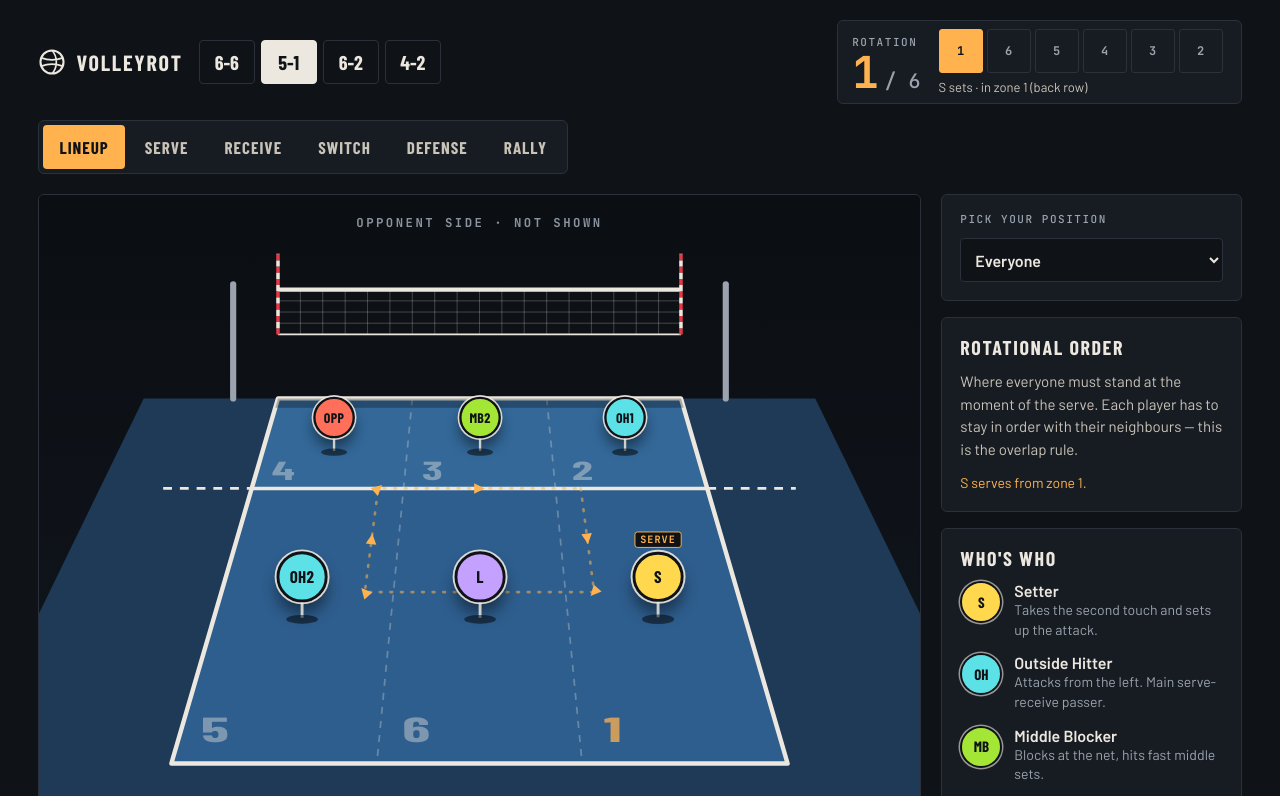
Scenario: rally playback › the Rally view shows step buttons, a caption and the ball
Click the button "Rally" at x=526, y=147, box [488, 125, 563, 169]
(page scrolled)
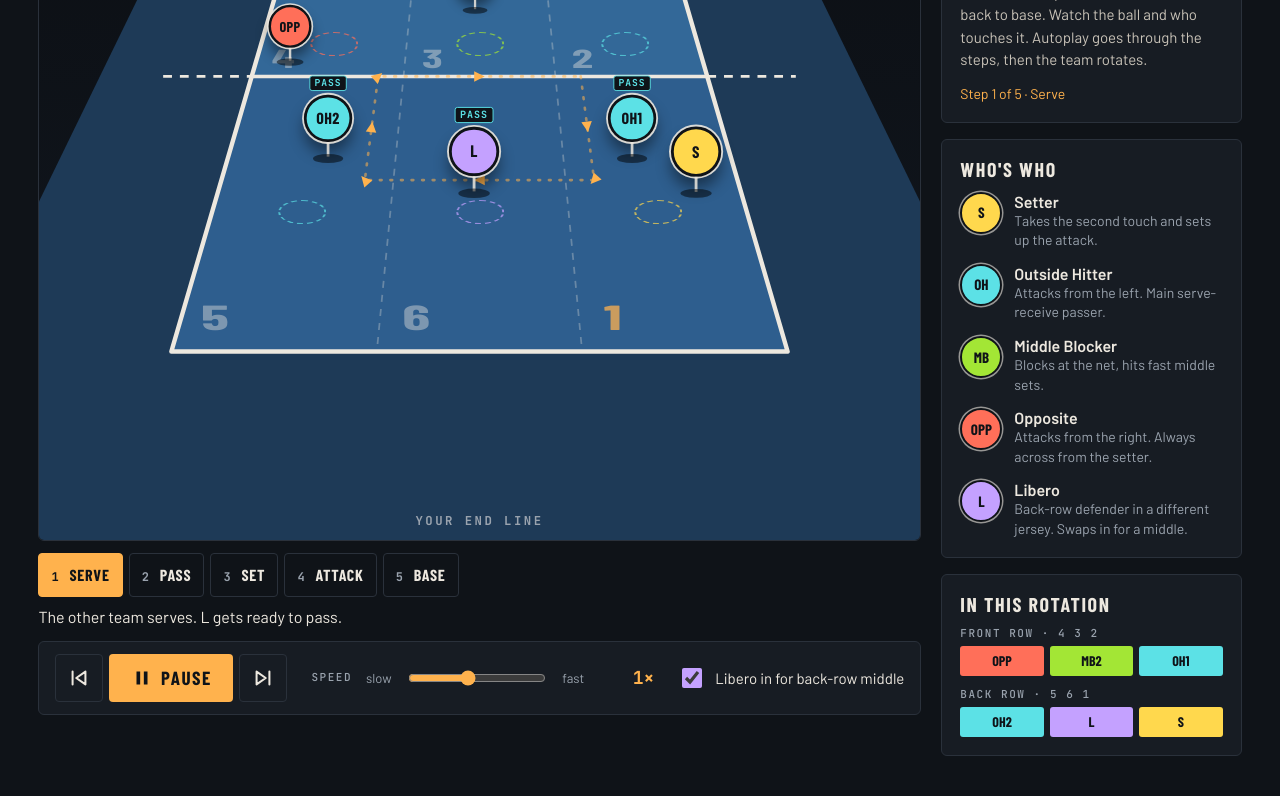
Now the buttons read "1 Serve", "2 Pass", "3 Set", "4 Attack", "5 Base", in this order
Now the text "The other team serves. L gets ready to pass." is shown, box [38, 607, 342, 626]
Click the button "4 Attack" at x=331, y=575, box [284, 553, 377, 597]
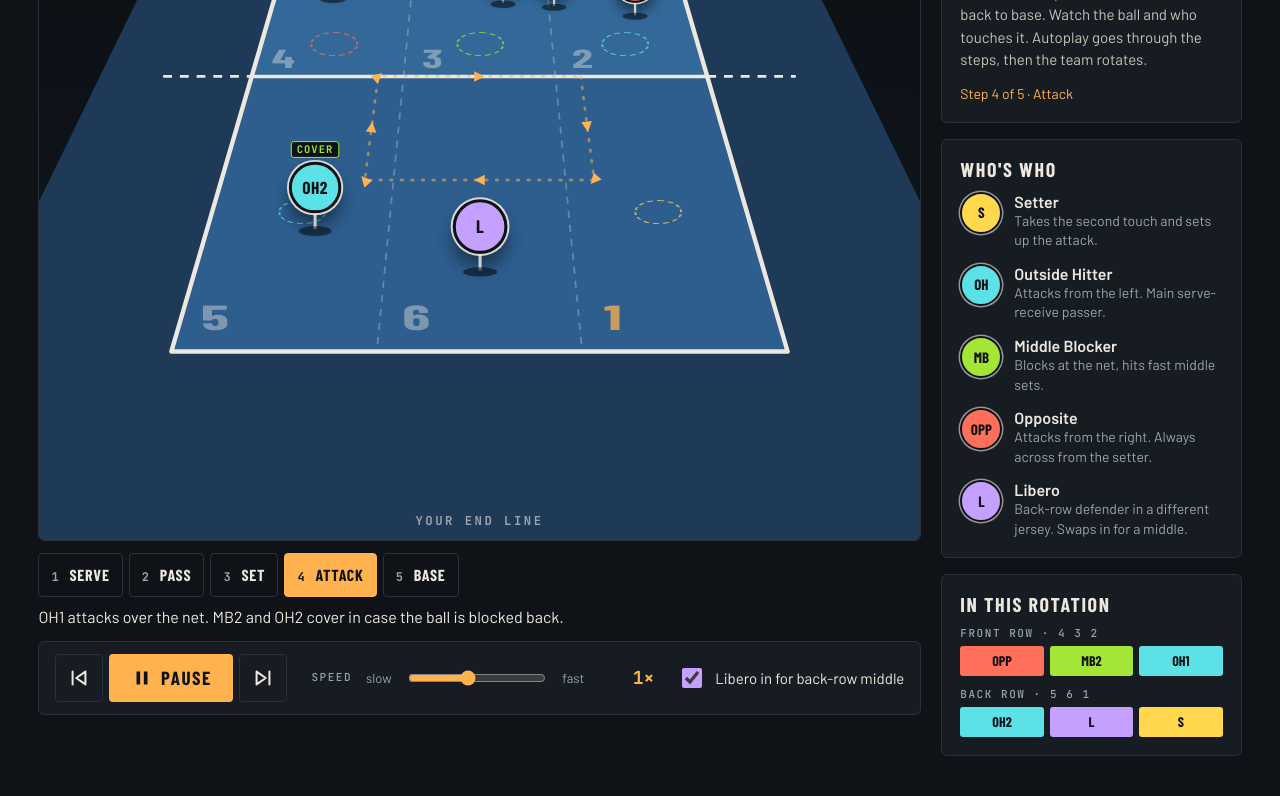
Now the text "attacks over the net" is shown, box [38, 607, 564, 626]
